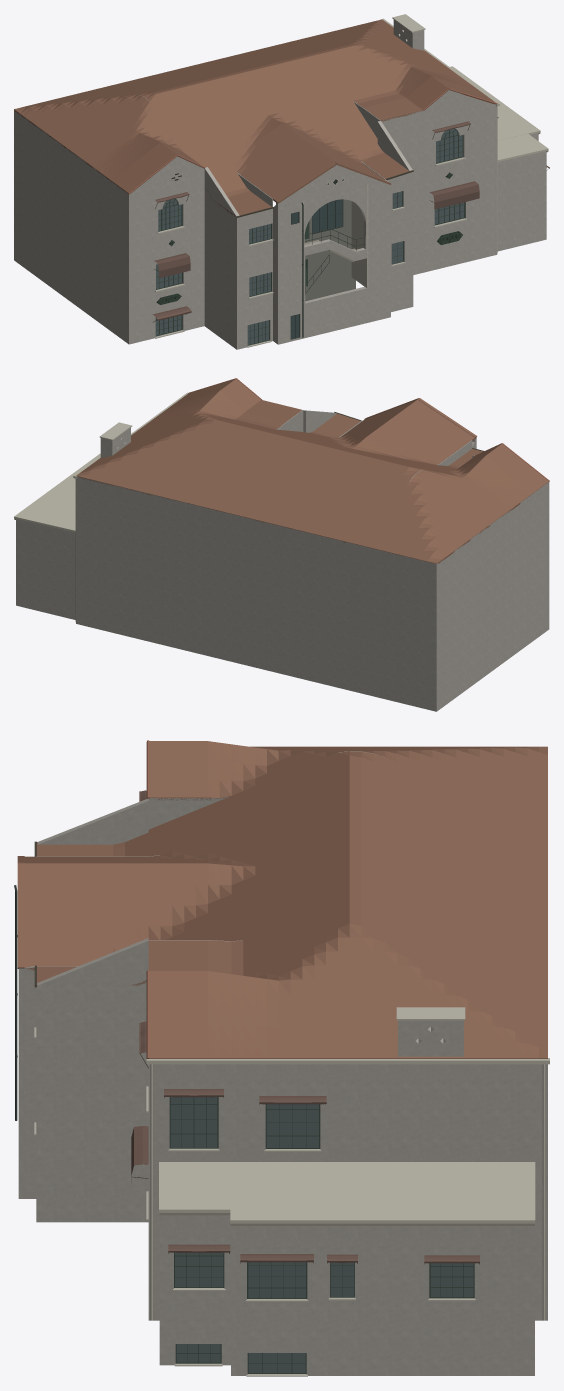
File: xuhui-huashan-823-827-stair-loggia-web.glb
The picture shows the model from 3 angles, top to bottom: view 1: azimuth 30°, elevation 25°; view 2: azimuth 150°, elevation 25°; view 3: azimuth 270°, elevation 25°; orthographic projection. The views are drawn at different scales.
Visible parts, largest first — view 1: 华山路823、825、827号院临街住宅三山墙与明梯; view 2: 华山路823、825、827号院临街住宅三山墙与明梯; view 3: 华山路823、825、827号院临街住宅三山墙与明梯.
Boxes of the visible parts, x1,y1,x2,y2 form: 华山路823、825、827号院临街住宅三山墙与明梯: [14, 14, 549, 349]; 华山路823、825、827号院临街住宅三山墙与明梯: [14, 378, 549, 711]; 华山路823、825、827号院临街住宅三山墙与明梯: [14, 740, 549, 1376].
Bounding box in the file's own units: 25.42 × 10.36 × 15.48.
Materials: 17 (1 with a texture image).
